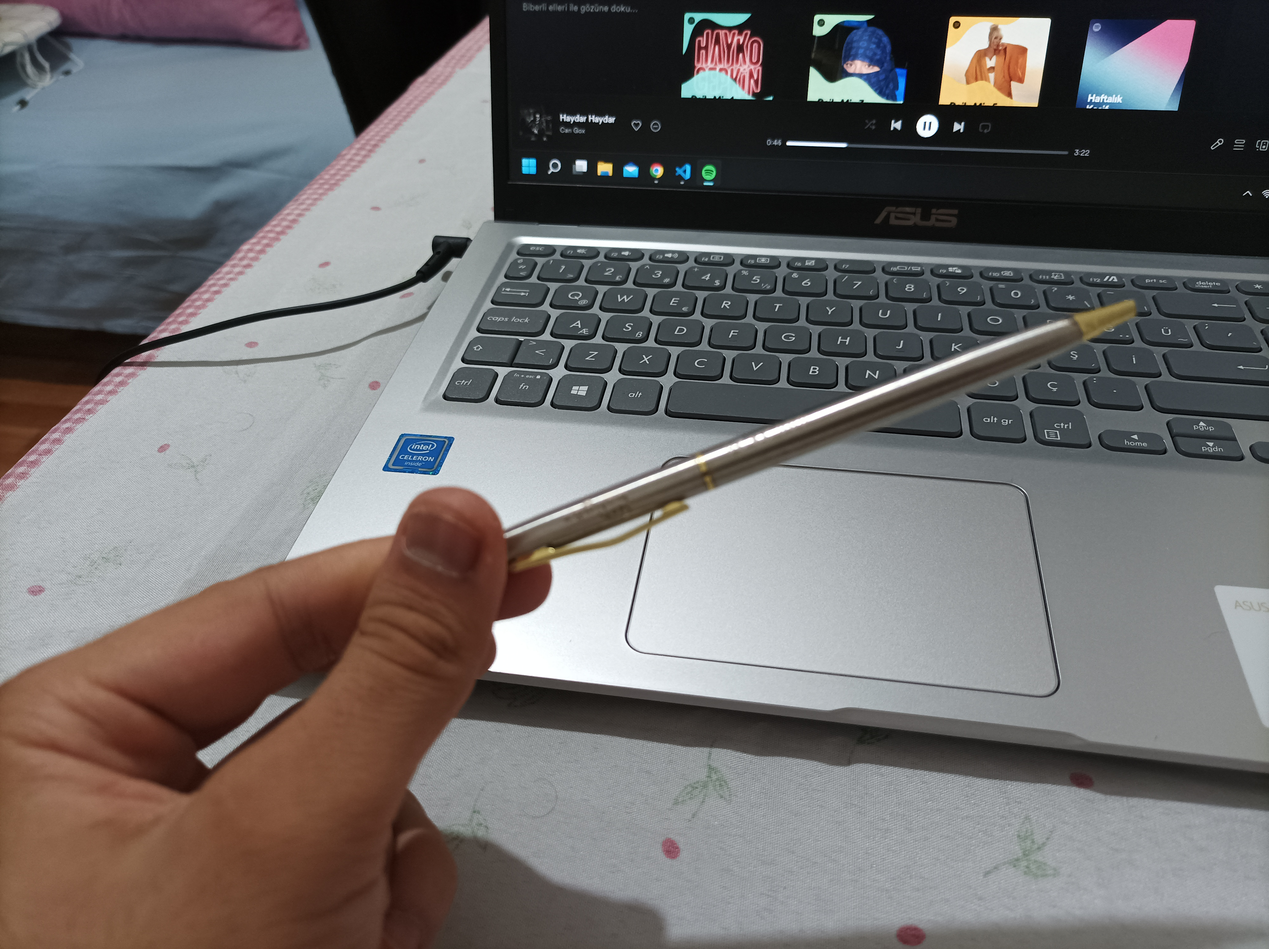plastic: (473, 292, 1142, 580)
